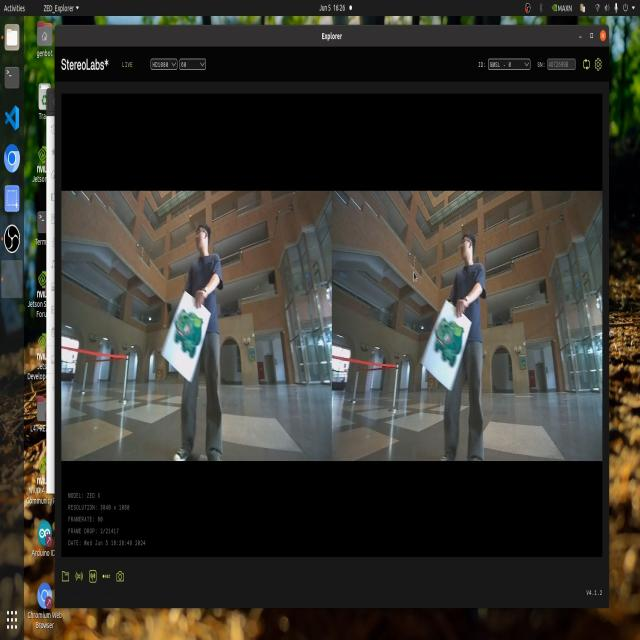green: (440, 312, 476, 371), (169, 304, 204, 362)
